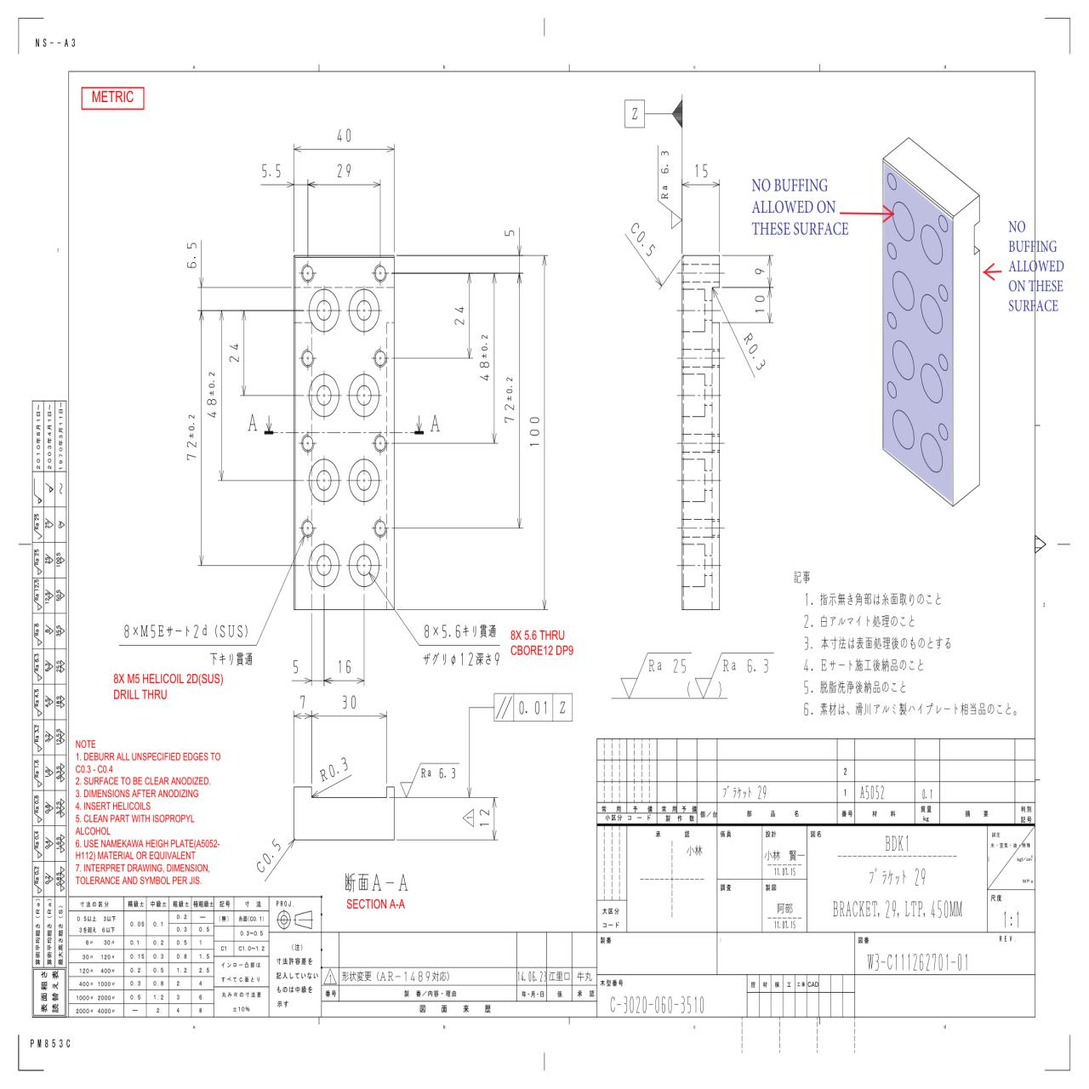basic_dimension: (519, 699, 548, 716), (261, 162, 281, 178), (529, 416, 539, 446), (187, 242, 196, 268), (479, 808, 490, 826), (342, 695, 356, 709), (337, 163, 350, 178), (337, 129, 351, 142), (338, 660, 351, 674), (229, 344, 239, 362), (455, 306, 464, 325), (755, 296, 765, 312), (696, 164, 707, 178), (503, 229, 515, 237), (293, 659, 298, 674), (300, 695, 305, 709), (754, 269, 765, 274)
datum_symbol: (624, 99, 682, 129)
dimension_chamfer_symbol: (629, 219, 658, 258), (255, 837, 281, 877)
dimension_chamfer_text: (261, 837, 282, 867), (636, 229, 657, 258)
dimension_diameter_symbol: (450, 651, 474, 669)
dimension_diameter_text: (459, 650, 473, 670)
dimension_metric_symbol: (140, 623, 157, 640)
dimension_metric_text: (150, 621, 157, 641)
dimension_radius_symbol: (743, 332, 767, 371), (319, 757, 349, 783)
dimension_radius_text: (747, 341, 769, 372), (327, 755, 350, 779)
explicit_tolerance_text: (207, 371, 217, 418), (187, 413, 197, 460), (505, 377, 515, 423), (480, 335, 489, 381)
gdt_frame_symbol: (493, 691, 574, 724)
gdt_parallelism_symbol: (495, 696, 513, 720)
revision_triangle_symbol: (462, 808, 474, 828)
surface_finish_symbol: (694, 652, 775, 700), (620, 652, 692, 700), (399, 762, 460, 799), (658, 145, 683, 230)
surface_finish_text: (745, 656, 770, 674), (673, 658, 688, 674), (660, 151, 669, 176), (438, 767, 456, 779)
